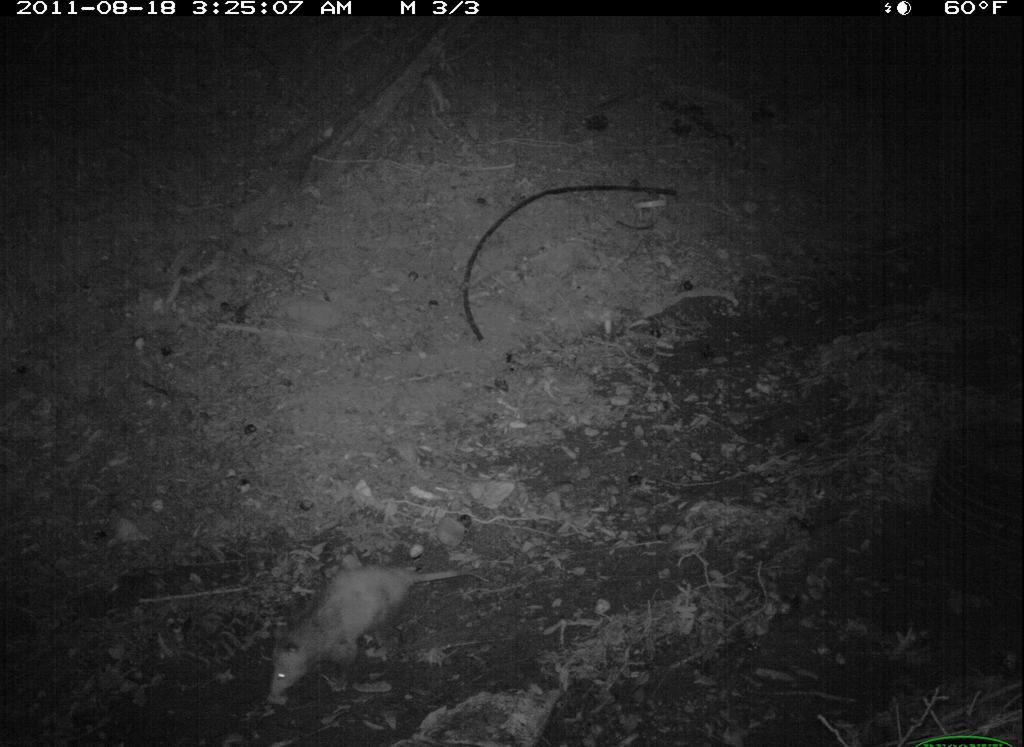opossum: (166, 550, 488, 713)
